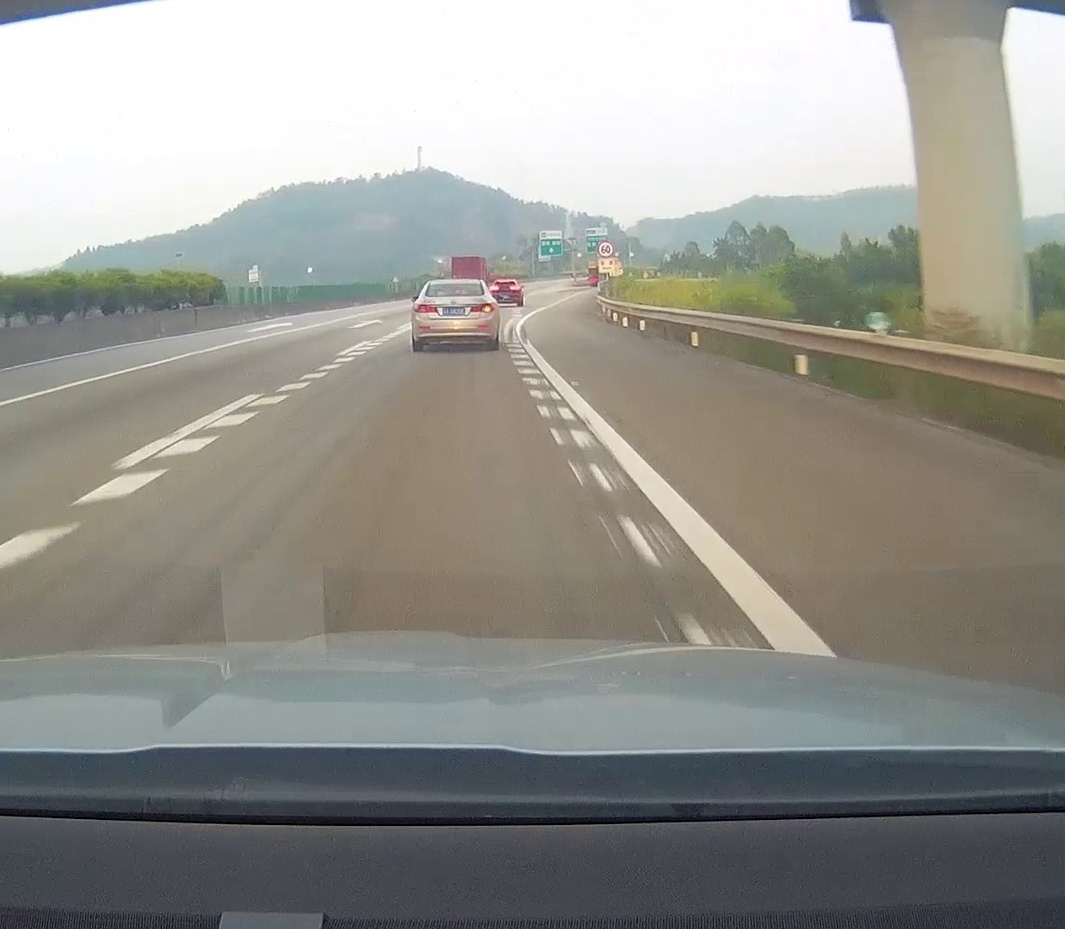L_light: (412, 303, 437, 313)
R_light: (470, 303, 495, 314)
T_light: (448, 294, 461, 296)
day-right: (411, 279, 498, 352)
